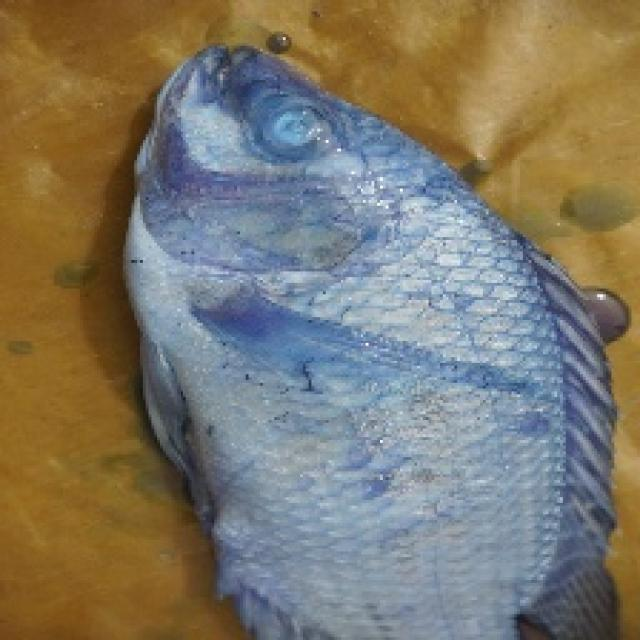Non-Fresh: (119, 36, 566, 516), (255, 99, 345, 170)
